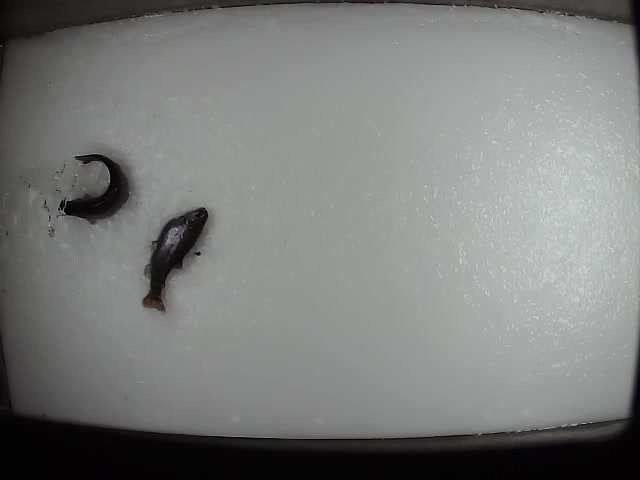Fish: (141, 208, 207, 312), (58, 154, 128, 224)
